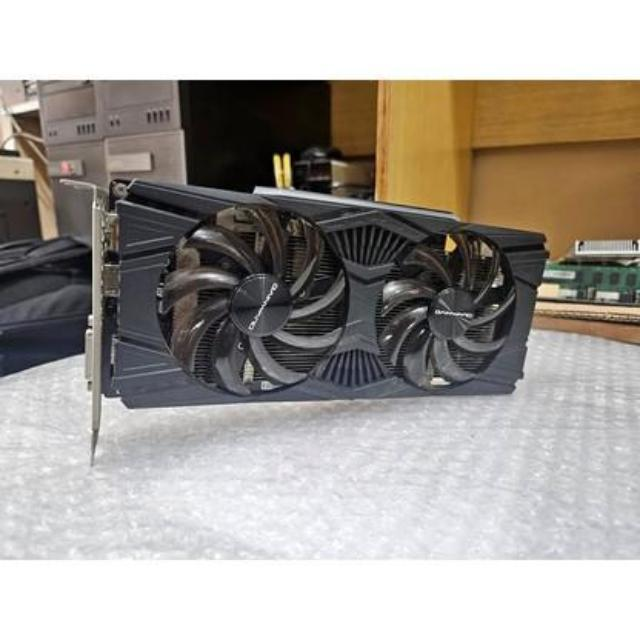GPU: (84, 169, 550, 429)
